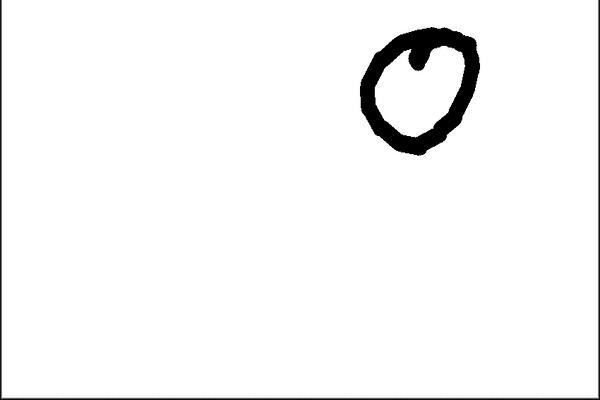O: (345, 16, 485, 163)
